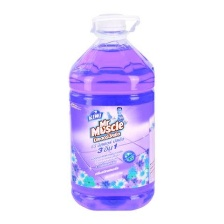cleaning_solution: (66, 8, 158, 214)
